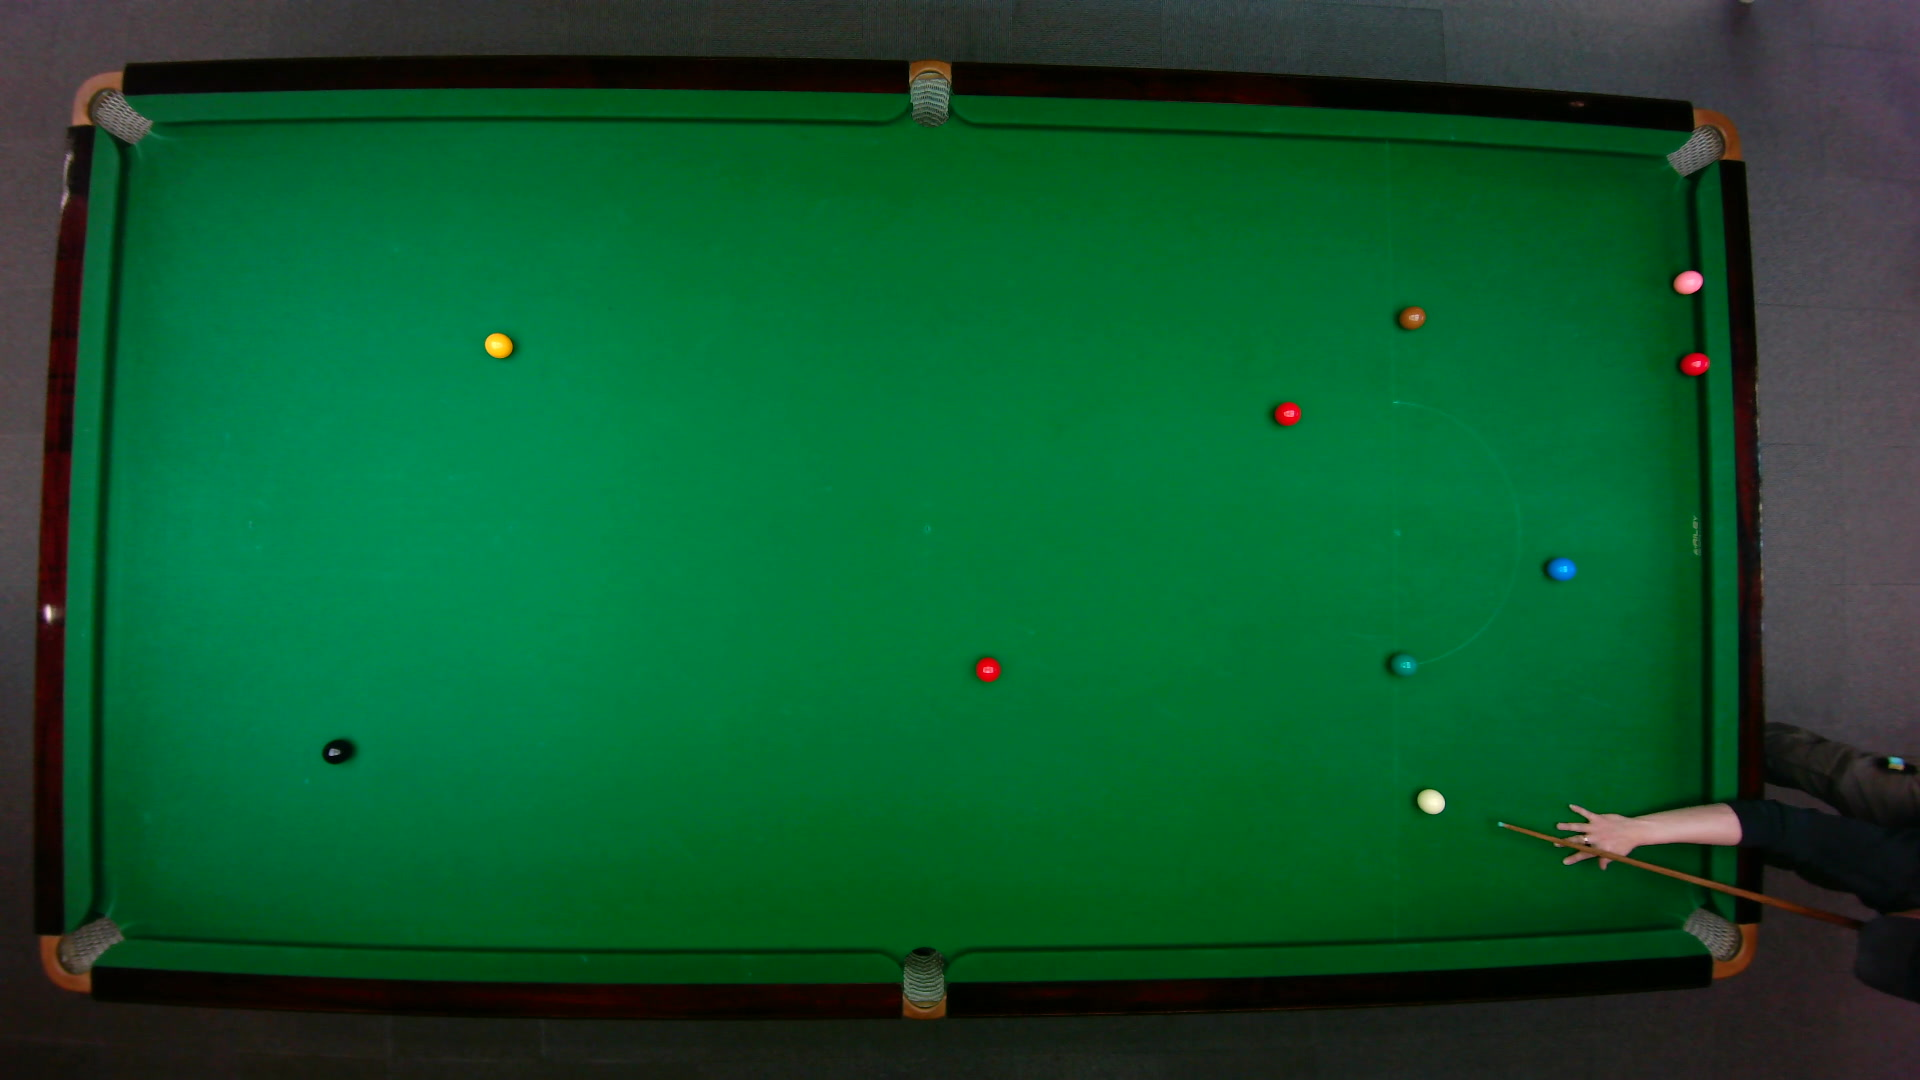bag: (38, 914, 125, 993), (69, 69, 153, 145), (1680, 905, 1756, 978), (1663, 107, 1741, 177), (901, 944, 945, 1021), (909, 57, 949, 128)
black: (320, 736, 352, 765)
blue: (1545, 556, 1577, 582)
brown: (1396, 305, 1427, 328)
cue: (1494, 818, 1873, 924)
green: (1387, 650, 1418, 676)
pink: (1671, 268, 1704, 295)
red: (1677, 349, 1712, 376), (973, 654, 1002, 682), (1271, 400, 1302, 426)
white: (1414, 787, 1447, 814)
yellow: (483, 330, 514, 359)
zone: (1390, 400, 1520, 667)
